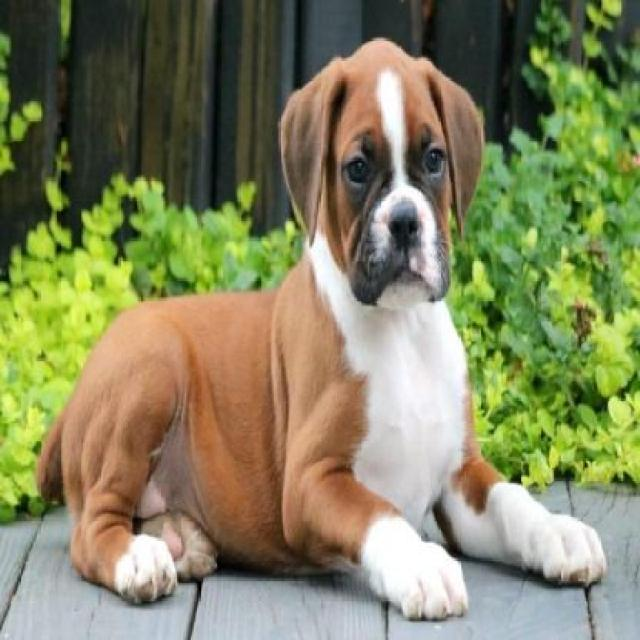animals: (64, 34, 576, 603)
